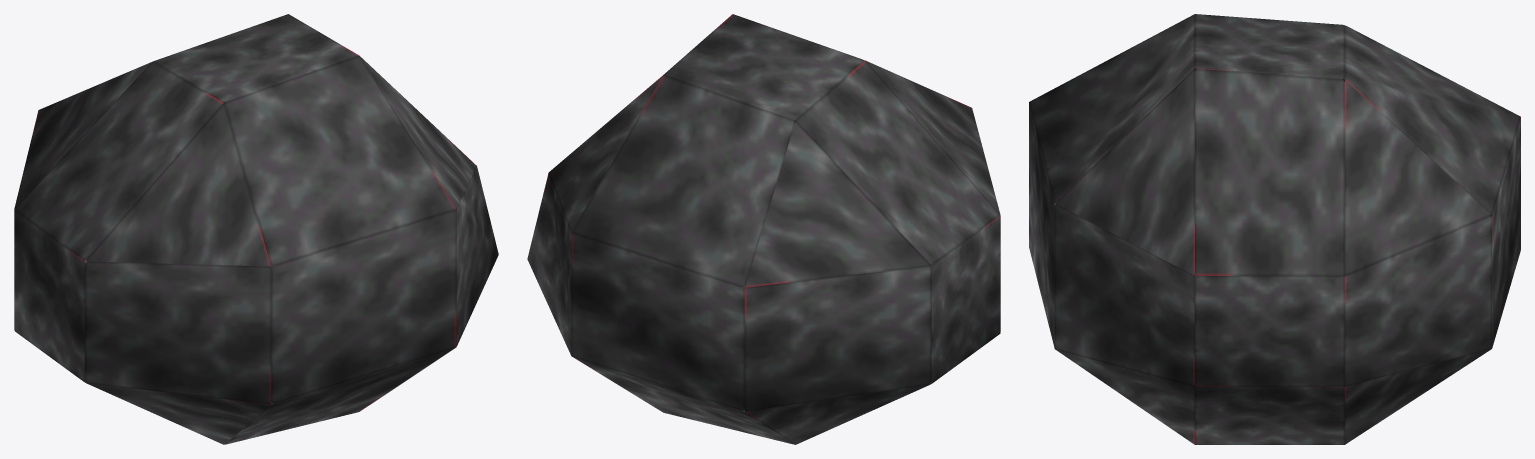
3 views of the same model, side by side, from view 1: azimuth 30°, elevation 25°; view 2: azimuth 150°, elevation 25°; view 3: azimuth 270°, elevation 25° (orthographic). The views are drawn at different scales.
Parts seen in each view (by area): view 1: T1L1M003_13; view 2: T1L1M003_13; view 3: T1L1M003_13.
Boxes of the visible parts, left/top/right/bottom form: T1L1M003_13: left=14, top=14, right=498, bottom=444; T1L1M003_13: left=527, top=14, right=1000, bottom=444; T1L1M003_13: left=1029, top=14, right=1520, bottom=444.
Size of the model in its own units: 2.24 by 1.85 by 2.19.
1 material, 1 textured.
